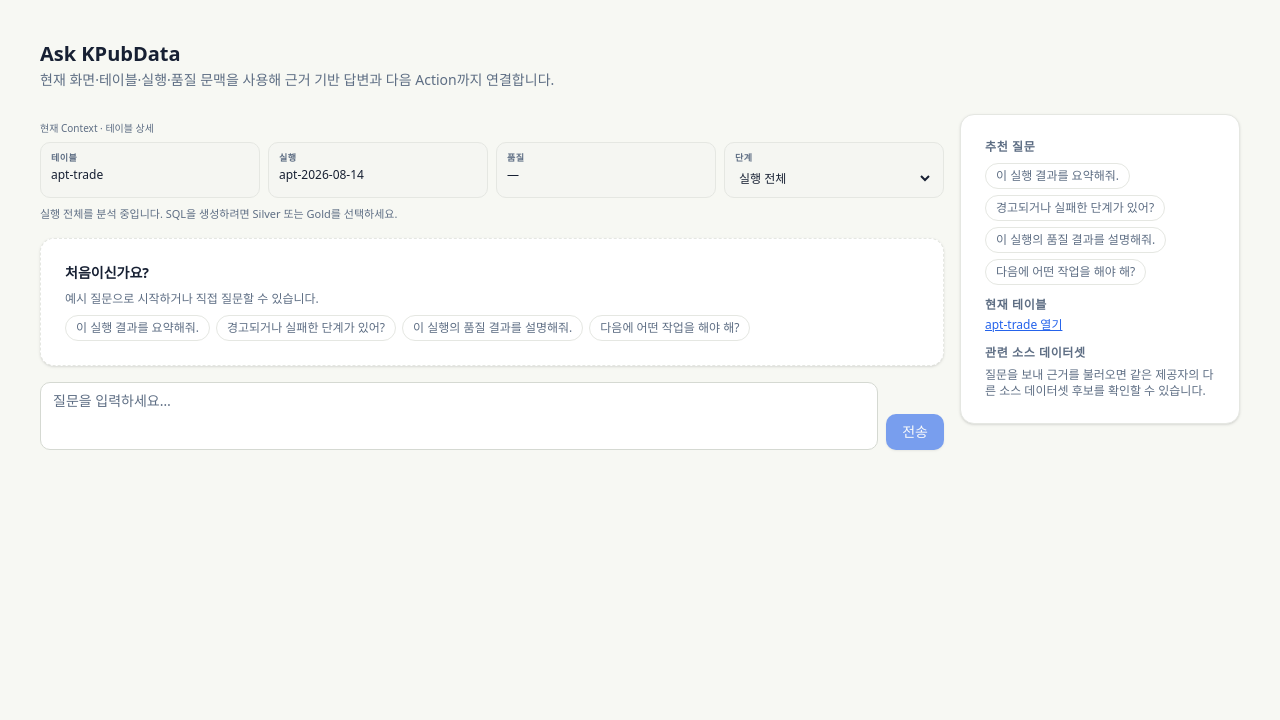
Test case: ADD_REPORT_BLOCK approval preview (#256 리뷰 §3) › shows the exact note text and linked evidence before approval, and queues nothing yet
The image size is (1280, 720).
In the text box named "Ask KPubData 에 질문하기": [459, 416] box [40,382,878,450], type "가격 결측 요약해줘"
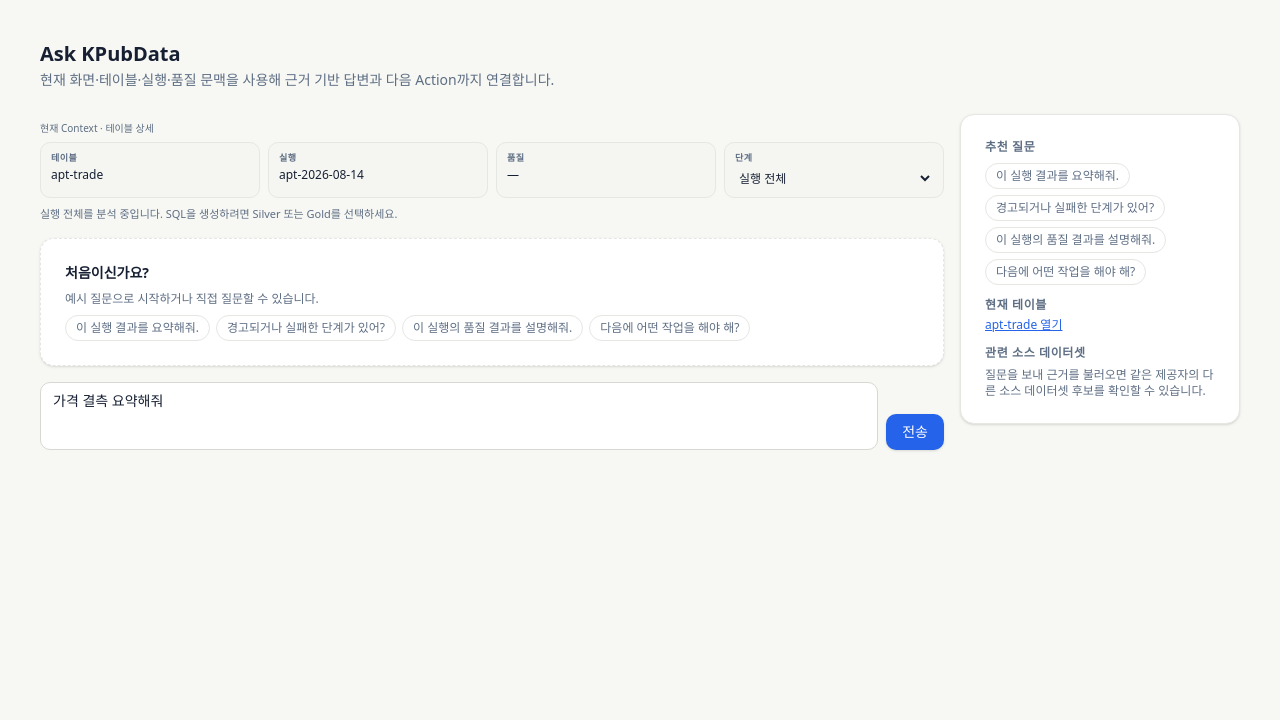
Submit the form named "Ask KPubData 에 질문하기", box [40,382,944,450]
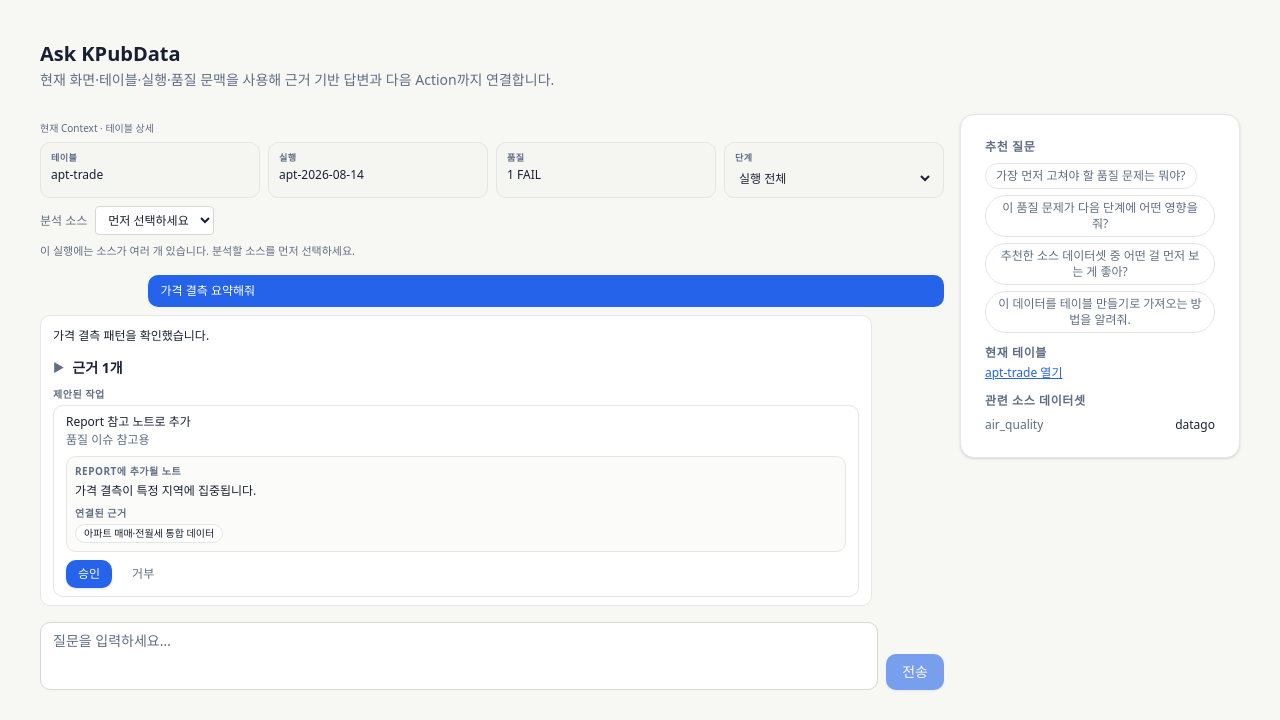
Result: the button "승인" is shown at [66,560,112,588]
Result: the text "가격 결측이 특정 지역에 집중됩니다." is shown at [75,482,256,499]
Result: the list item "아파트 매매·전월세 통합 데이터" is shown at [75,524,223,543]
